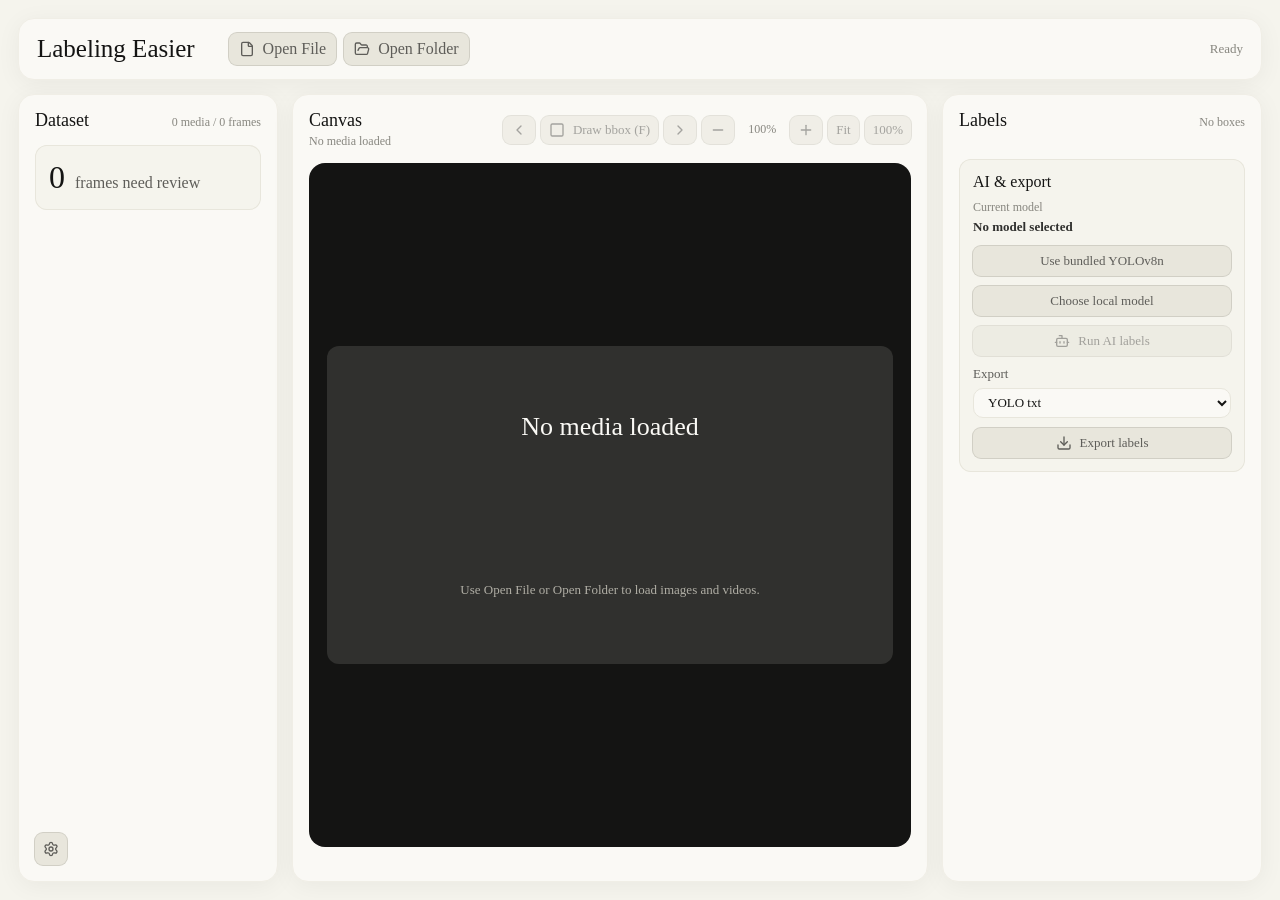
Test: desktop bridge actions › reports when desktop file actions are unavailable
Click the button "Open Folder" at (406, 49), box [344,33,468,65]
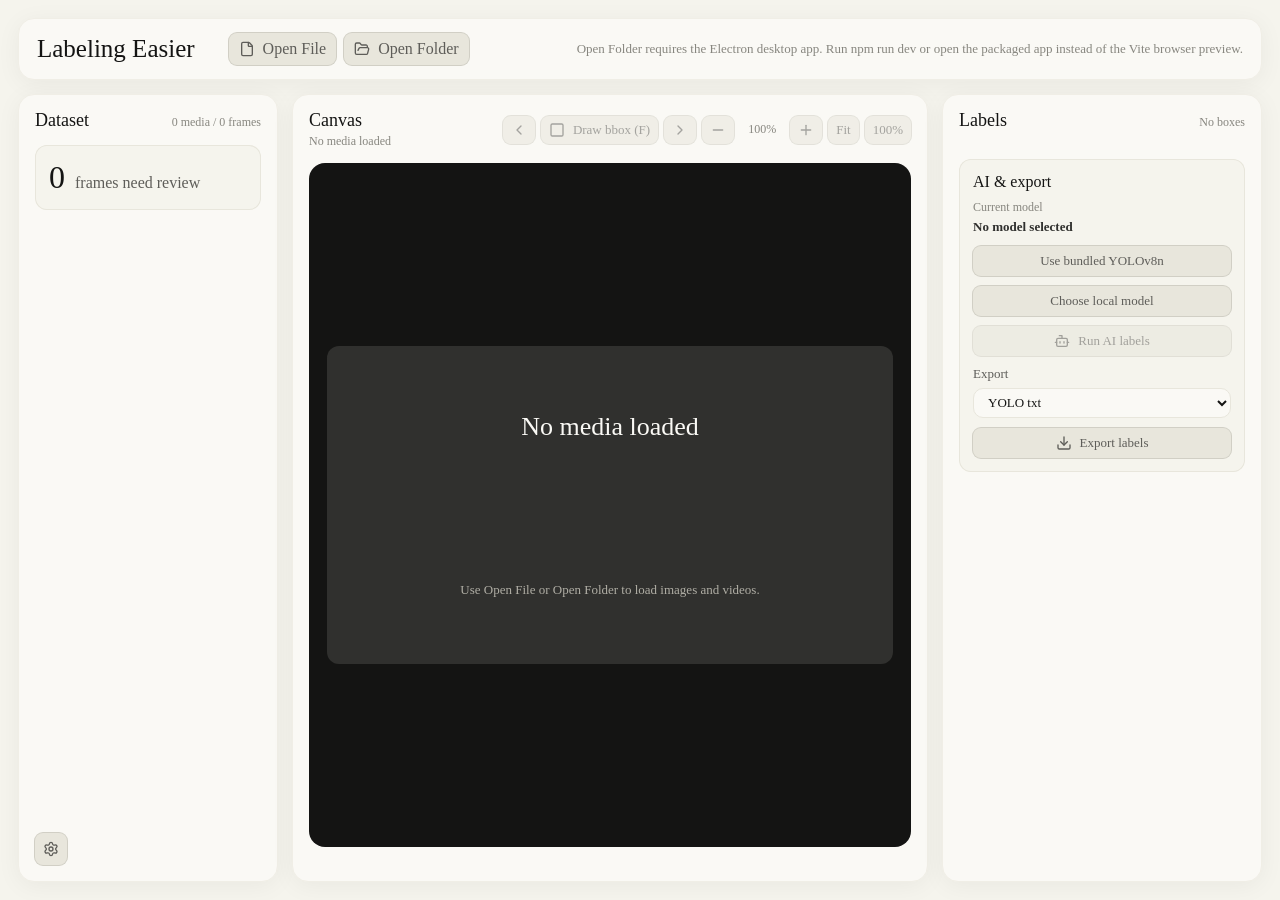
Expected: the text "desktop app" is shown, [577,41,1243,56]
